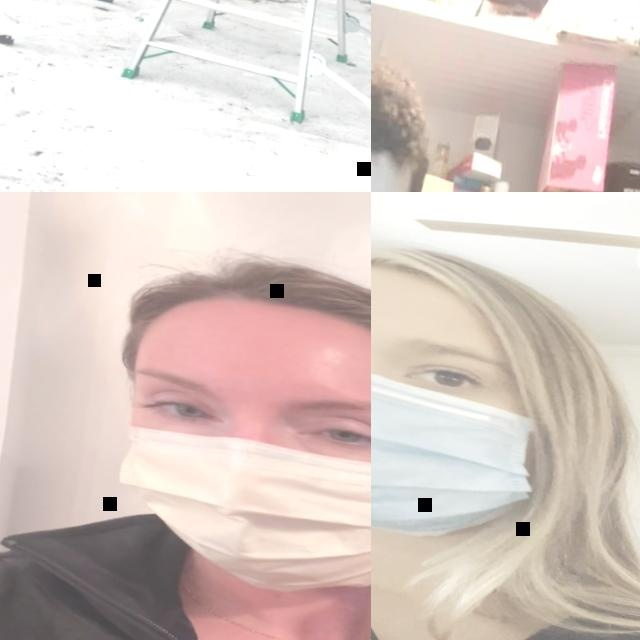Mask: (82, 357, 371, 603), (371, 347, 547, 552)
NO-Hardhat: (107, 219, 371, 388), (371, 213, 586, 372), (371, 53, 436, 192)
NO-Safety Vest: (0, 520, 371, 640), (371, 475, 640, 640)
Person: (0, 192, 371, 640), (371, 192, 640, 640), (371, 0, 564, 192)
